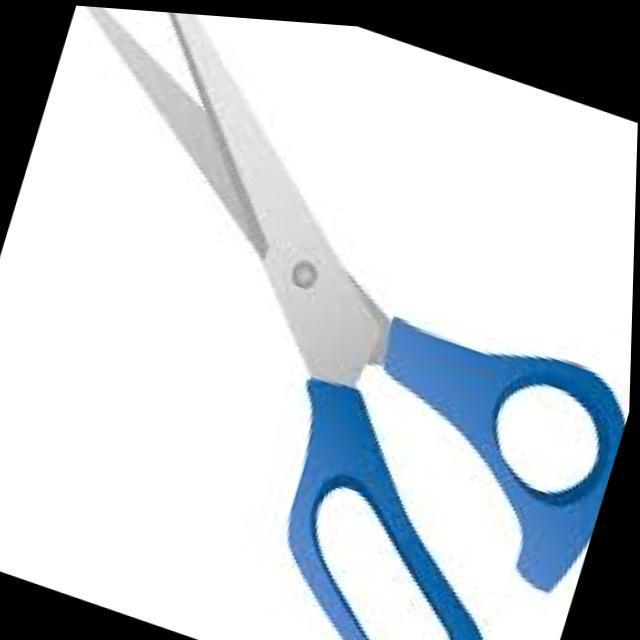tesoura: (93, 9, 389, 384)
